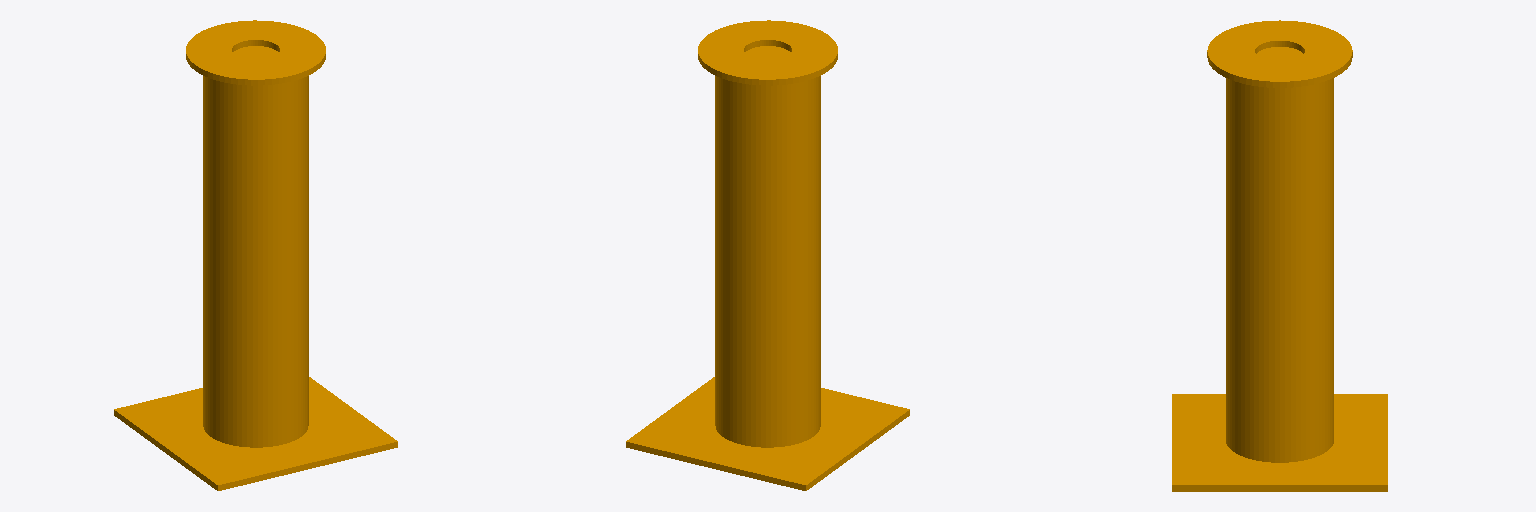
The robot description file, URDF, robot "swivellink_rb_ped_24_cb200":
<?xml version="1.0"?>
<robot name="swivellink_rb_ped_24_cb200">
<link name="base_link"><visual ><geometry ><mesh filename="../meshes/base_link.obj"/></geometry></visual><collision ><origin xyz="0 0 0.0047625" rpy="0 0 0"/><geometry ><box size="0.301625 0.301625 0.009525"/></geometry></collision><collision ><origin xyz="0 0 0.3048" rpy="0 0 0"/><geometry ><cylinder radius="0.07619999999999999" length="0.5905499999999999"/></geometry></collision><collision ><origin xyz="0 0 0.6048375" rpy="0 0 0"/><geometry ><cylinder radius="0.1016" length="0.009524999999999999"/></geometry></collision></link>
<link name="mount"></link>
<link name="robot_mount"></link>
<joint name="mount_joint" type="fixed"><parent link="base_link"/><child link="mount"/><origin xyz="0 0 0" rpy="0 0 0"/></joint>
<joint name="robot_mount_joint" type="fixed"><parent link="base_link"/><child link="robot_mount"/><origin xyz="0 0 0.6096" rpy="0 0 0"/></joint>
</robot>

--- What the picture shows (computed from the rendered views, not written in the file) ---
Views: 3 orthographic renders of the robot side by side, from view 1: azimuth 30°, elevation 25°; view 2: azimuth 150°, elevation 25°; view 3: azimuth 270°, elevation 25°.
Robot: swivellink_rb_ped_24_cb200 — 3 links, 2 joints (2 fixed); root link base_link; default pose: all joints at 0.
Visible links, largest first — view 1: base_link; view 2: base_link; view 3: base_link.
Link boxes in pixels (x1,y1,x2,y2): base_link: (114, 20, 397, 490); base_link: (626, 20, 909, 490); base_link: (1172, 20, 1387, 491).
Size in the robot's own frame: 0.3016 by 0.3016 by 0.6096 metres.
1 mesh visuals loaded from 1 distinct referenced files (1 OBJ).
